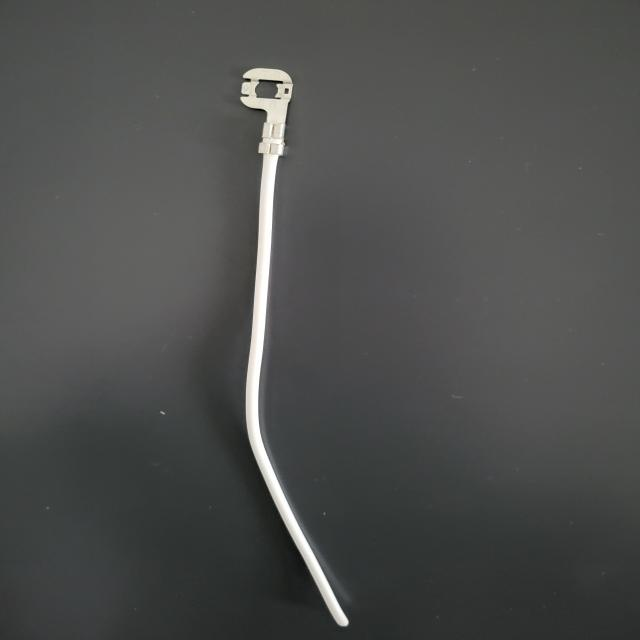defect: (230, 110, 322, 174)
